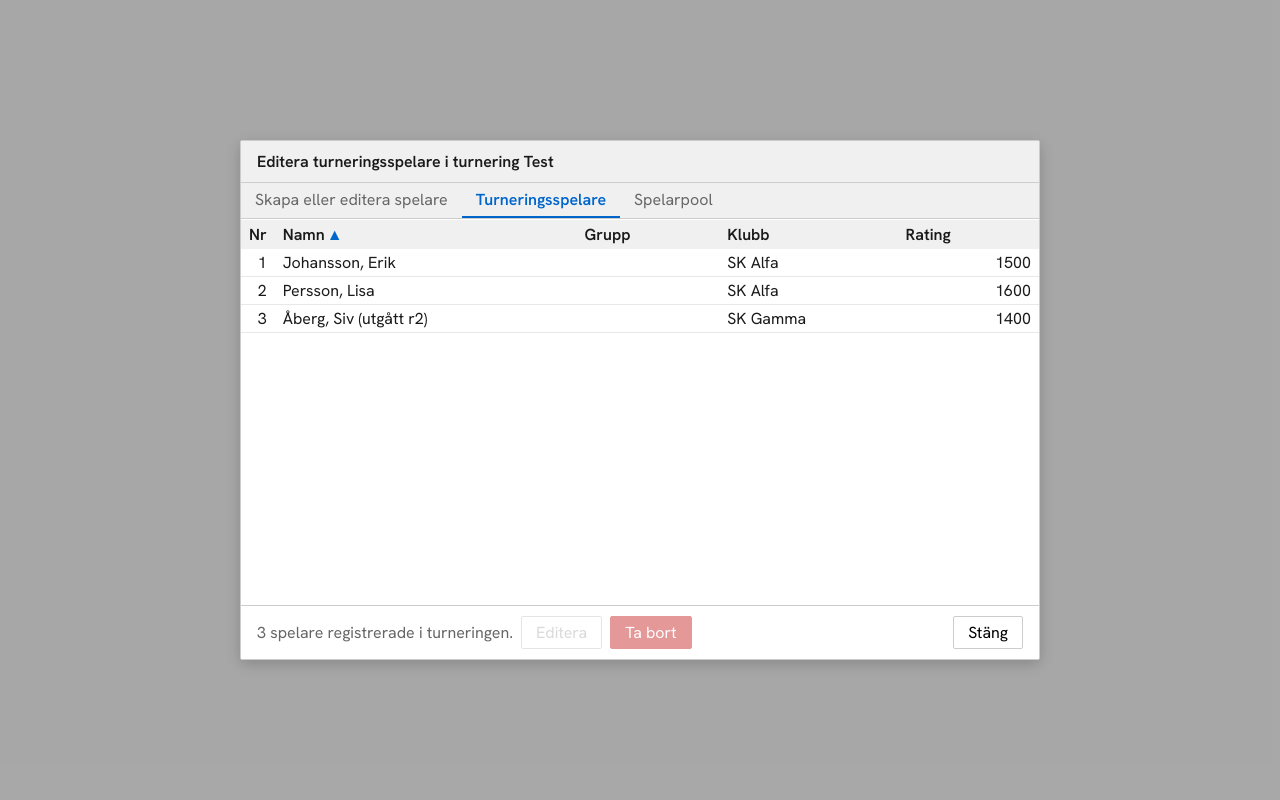
TournamentPlayersDialog update validation › shows error when updating player with empty names
The image size is (1280, 800).
Select the tournament player
Click the text "Johansson, Erik".
click(426, 262)  # box [275,248,577,276]
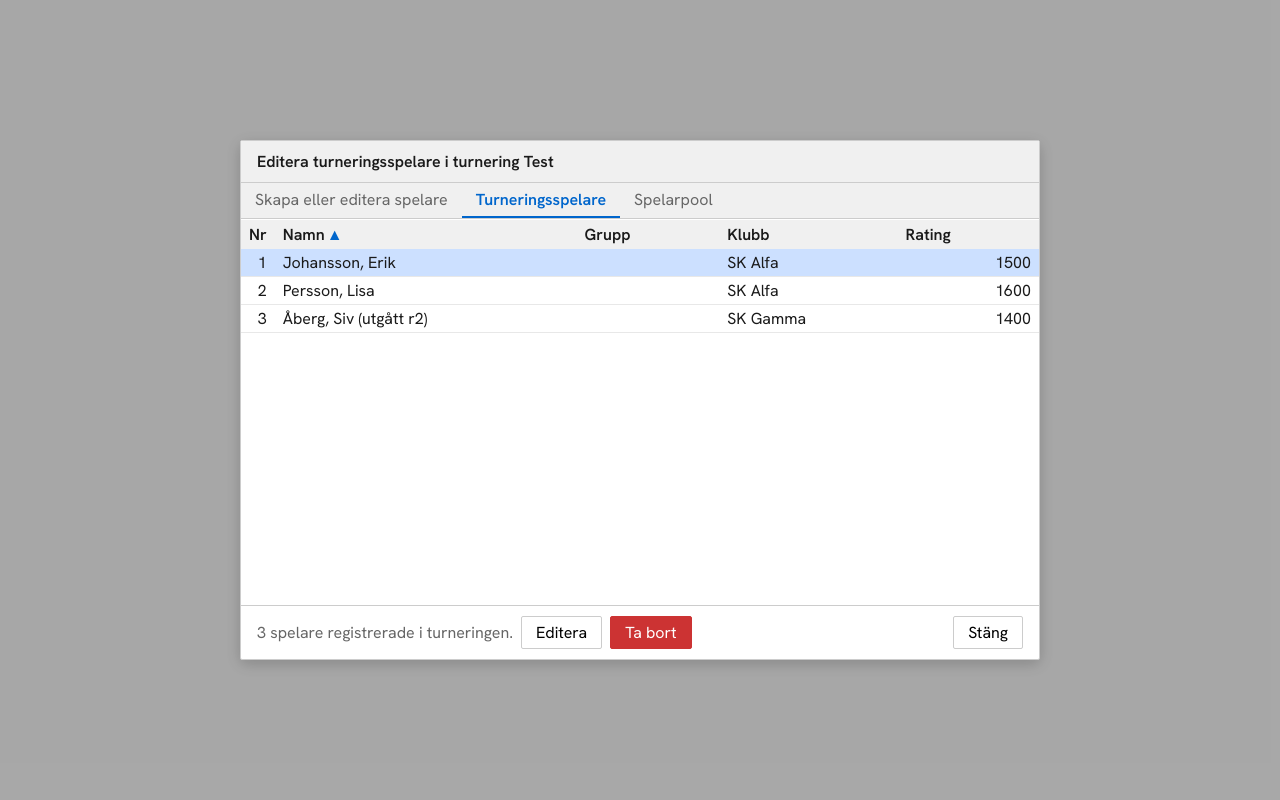
Switch to edit tab
Click the button "Skapa eller editera spelare".
click(351, 200)  # box [241,183,462,218]
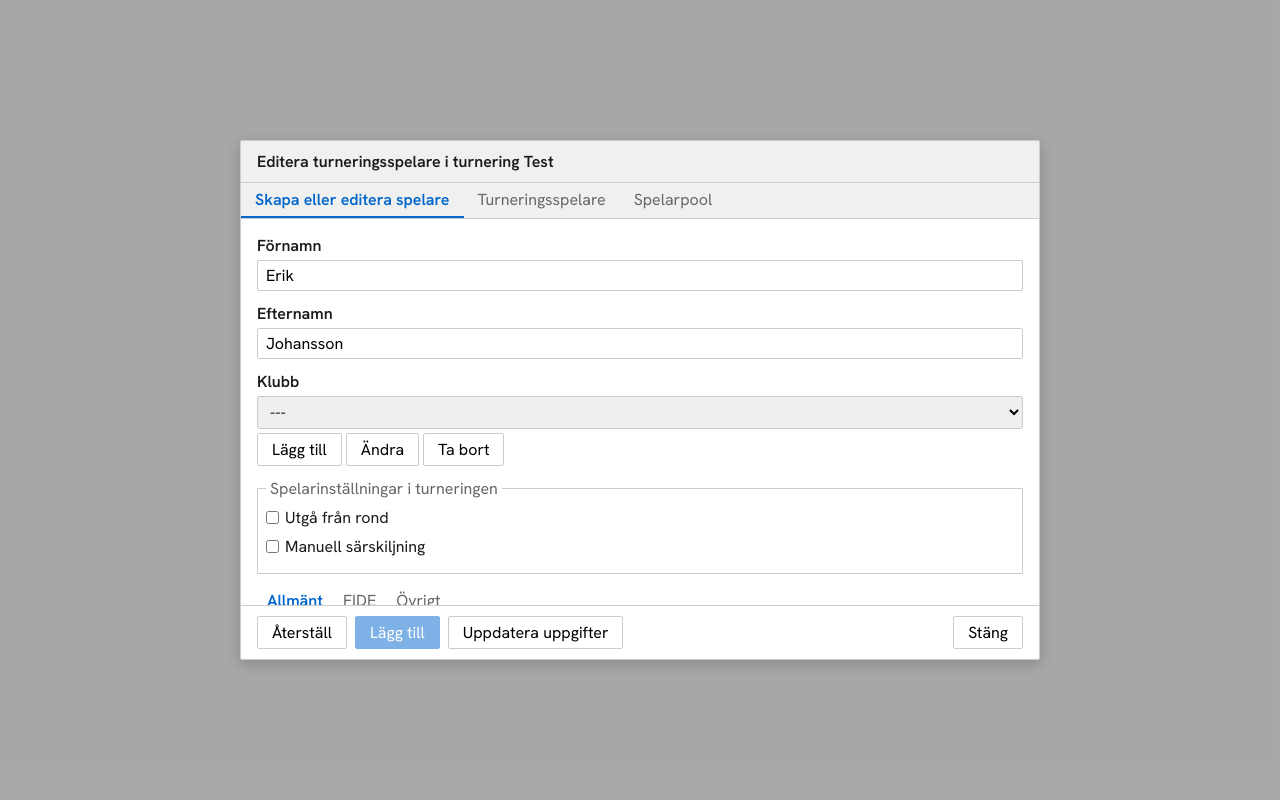
Clear both name fields
Clear the field with test id "first-name-input" at point(640, 276), box [257,260,1023,291]
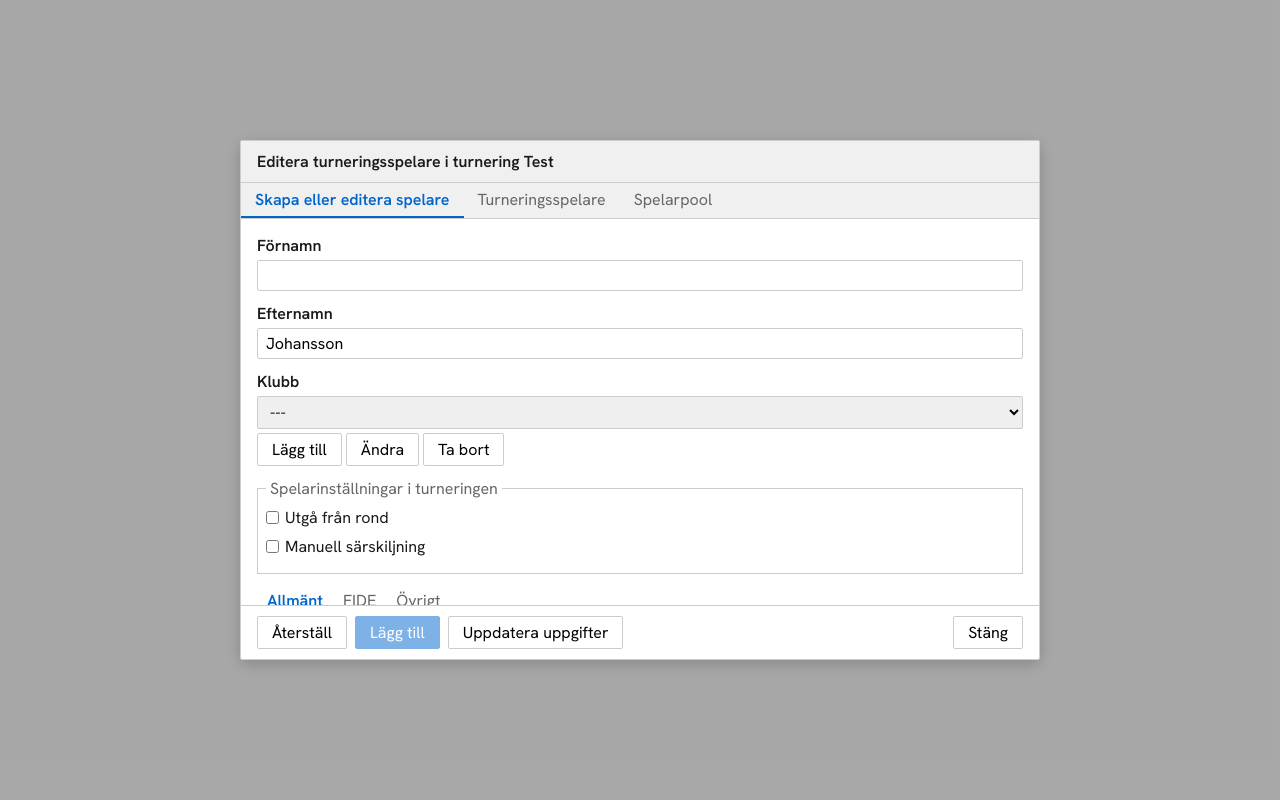
Clear the field with test id "last-name-input" at point(640, 344), box [257,328,1023,359]
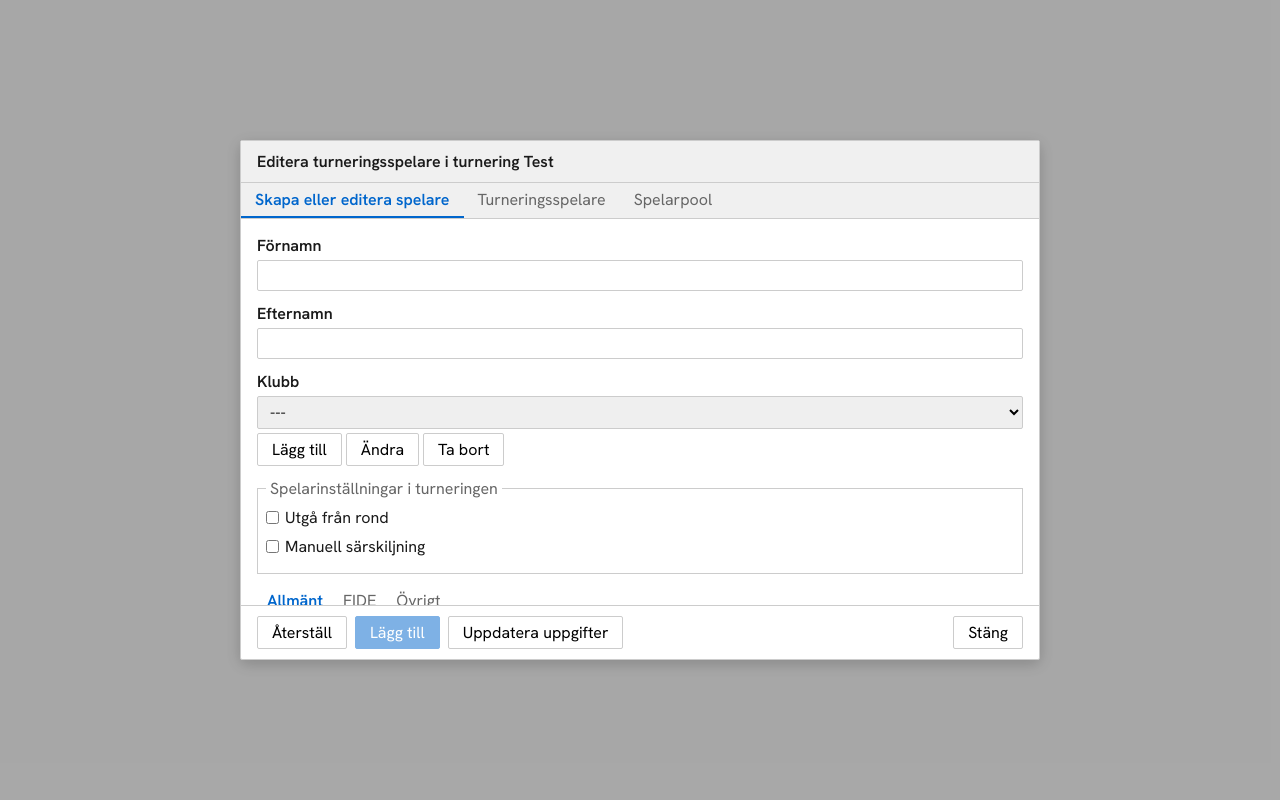
Click update button
Click the button with test id "update-player".
click(536, 632)  # box [448,616,623,649]
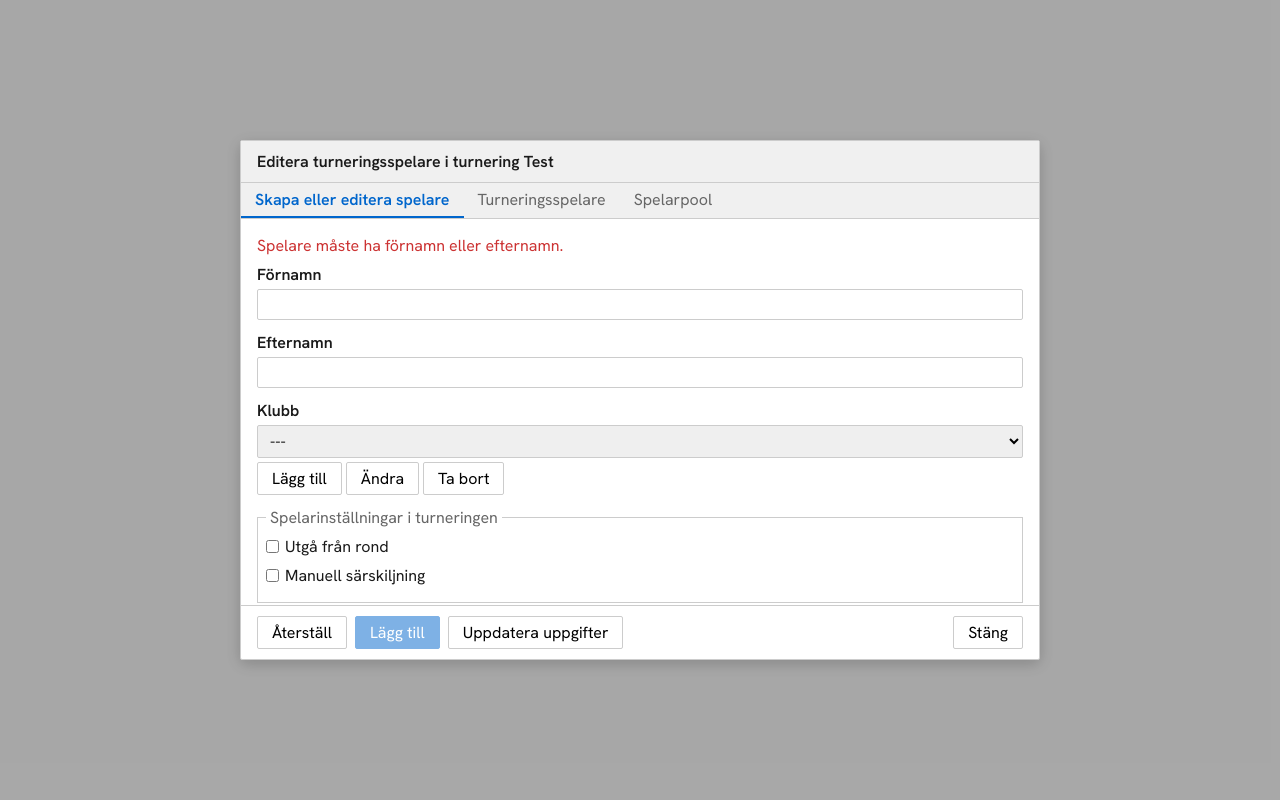
Now the text "Spelare måste ha förnamn eller efternamn." is shown, box [257,235,563,256]
